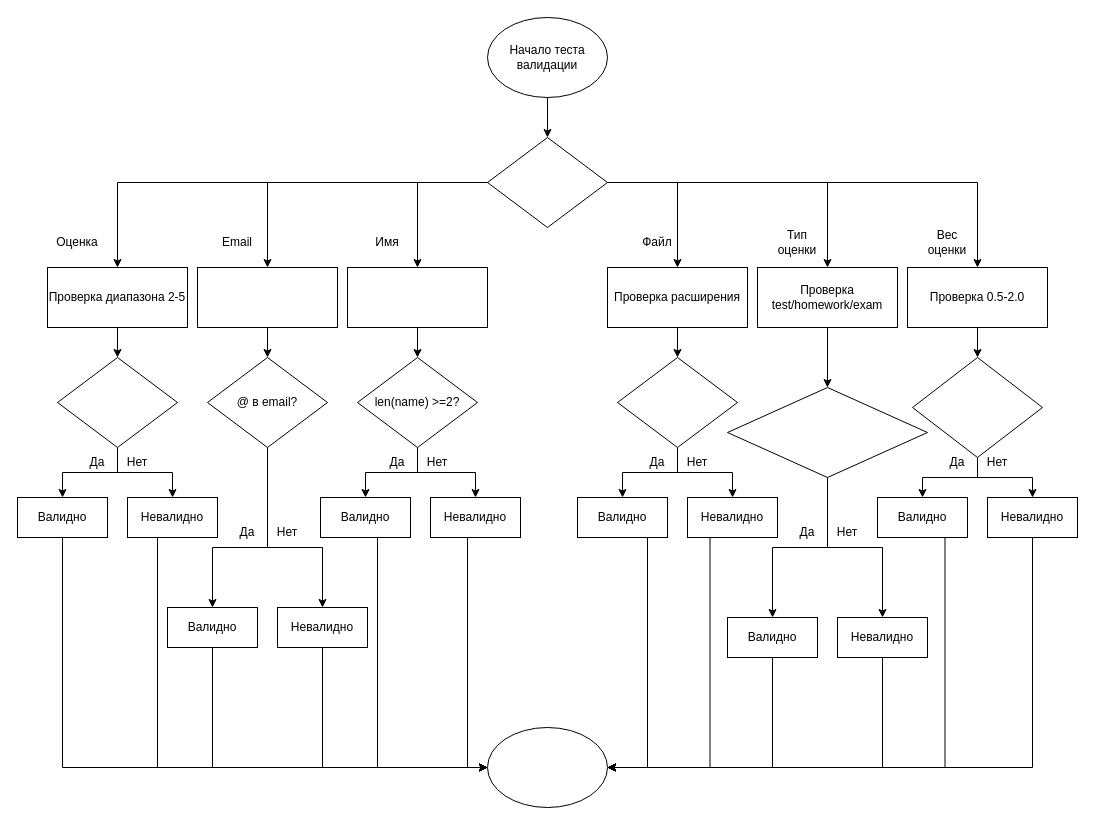
This 1095x825 diagram has some shape labels left out. The centre of each missing label's shape, as x and y in pixels:
0.5 <= weight <= 2.0: point (977, 407)
2 <= grade <=5: point (117, 402)
extension в ALLOWED?: point (677, 402)
type в [test, homework, exam]: point (827, 432)
Конец теста: point (547, 767)
Проверка длины >=2: point (417, 297)
Проверка наличия @: point (267, 297)
Что проверяем?: point (547, 182)
